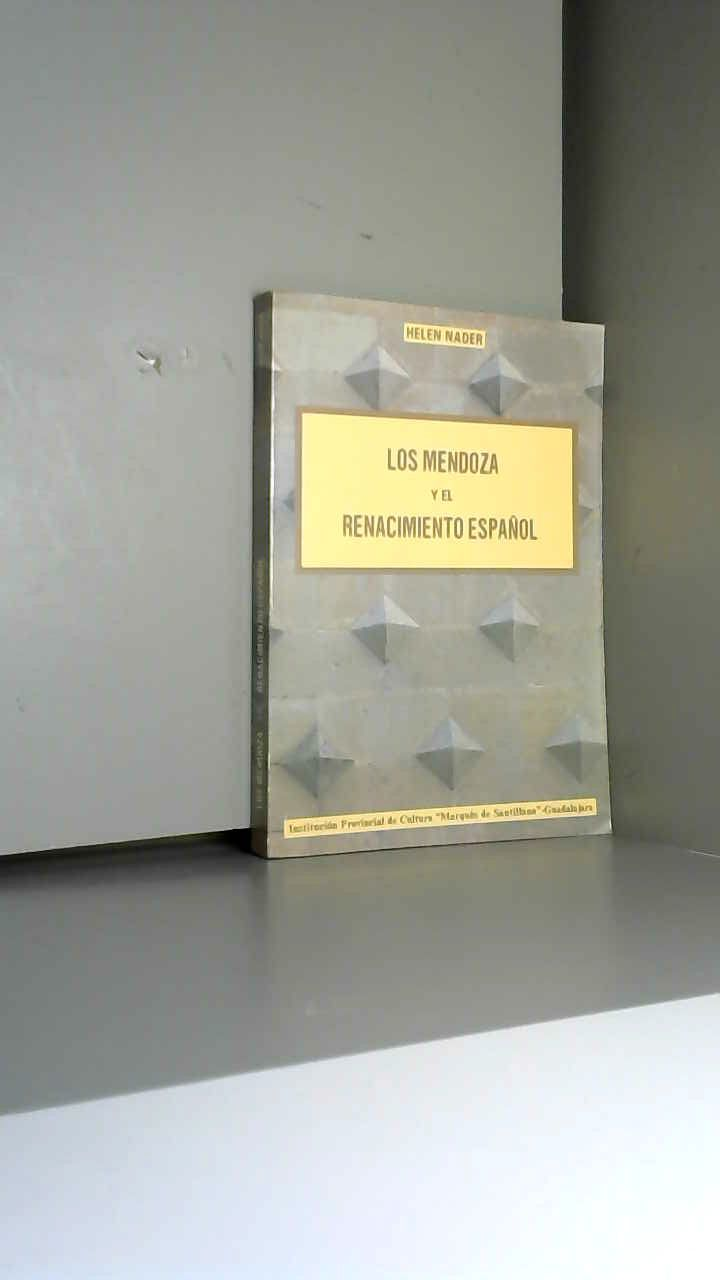book: (220, 260, 716, 916)
